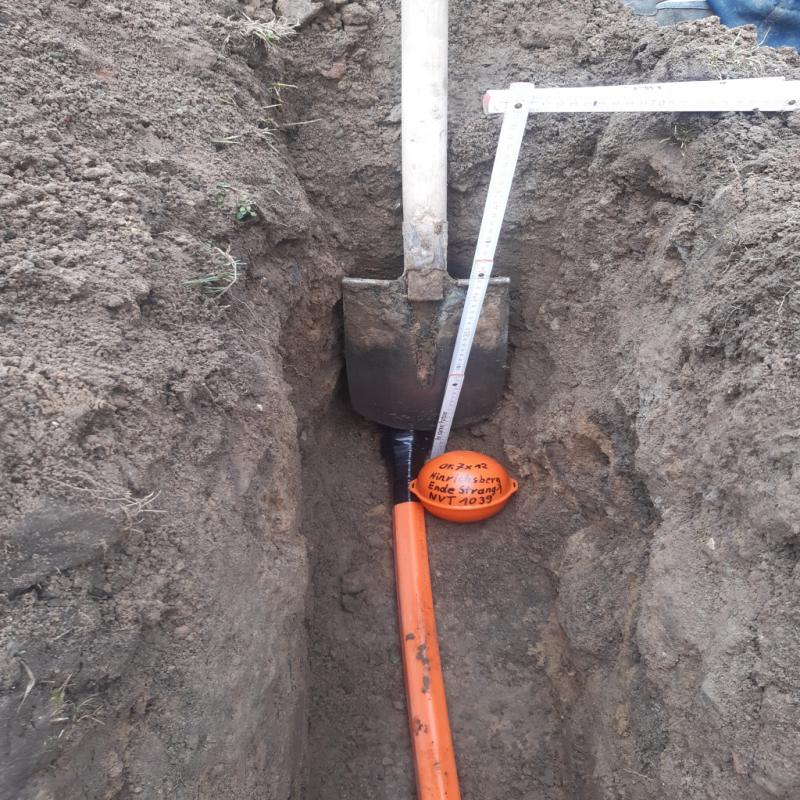Kugelmarker: (408, 449, 518, 523)
Orang-Speednetrohrchen: (396, 507, 457, 798)
